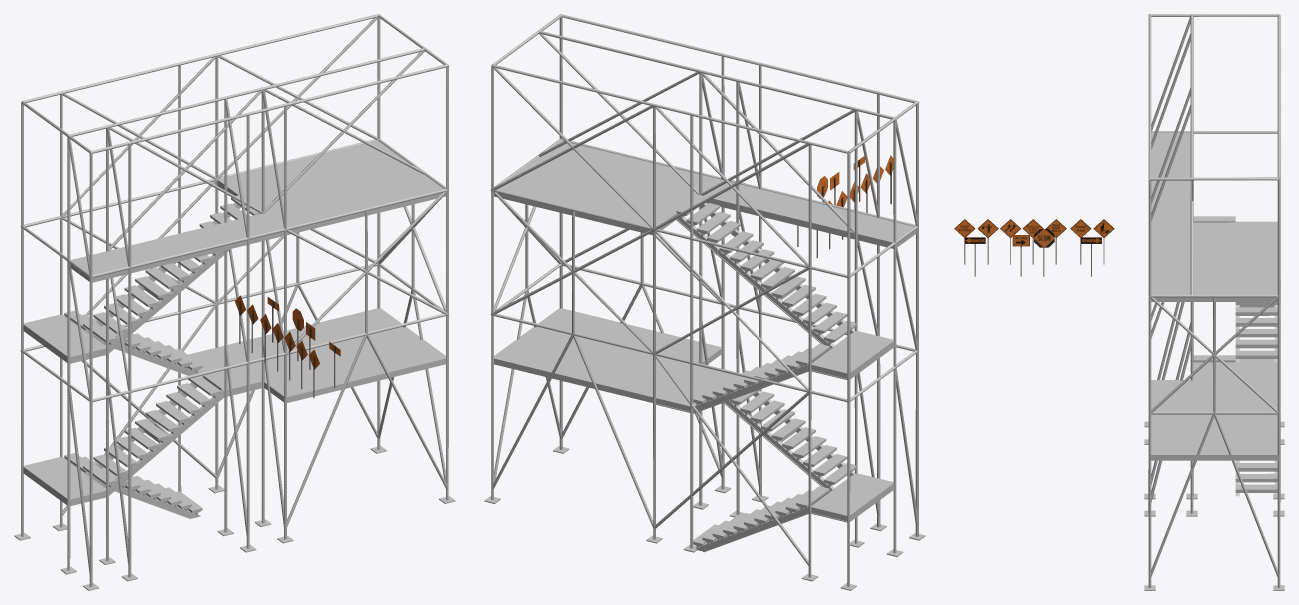
Rendered from Props.fbx.
3 renders of one model, left to right at view 1: azimuth 30°, elevation 25°; view 2: azimuth 150°, elevation 25°; view 3: azimuth 270°, elevation 25°, orthographic. The views are drawn at different scales.
Parts seen in each view (by area): view 1: Object_1; view 2: Object_1; view 3: Object_1.
Part boxes in pixels (bbox=[...]): Object_1: bbox=[14, 14, 455, 590]; Object_1: bbox=[484, 14, 925, 590]; Object_1: bbox=[1144, 14, 1284, 590].
Bounding box in the file's own units: 941 × 1070 × 780.
